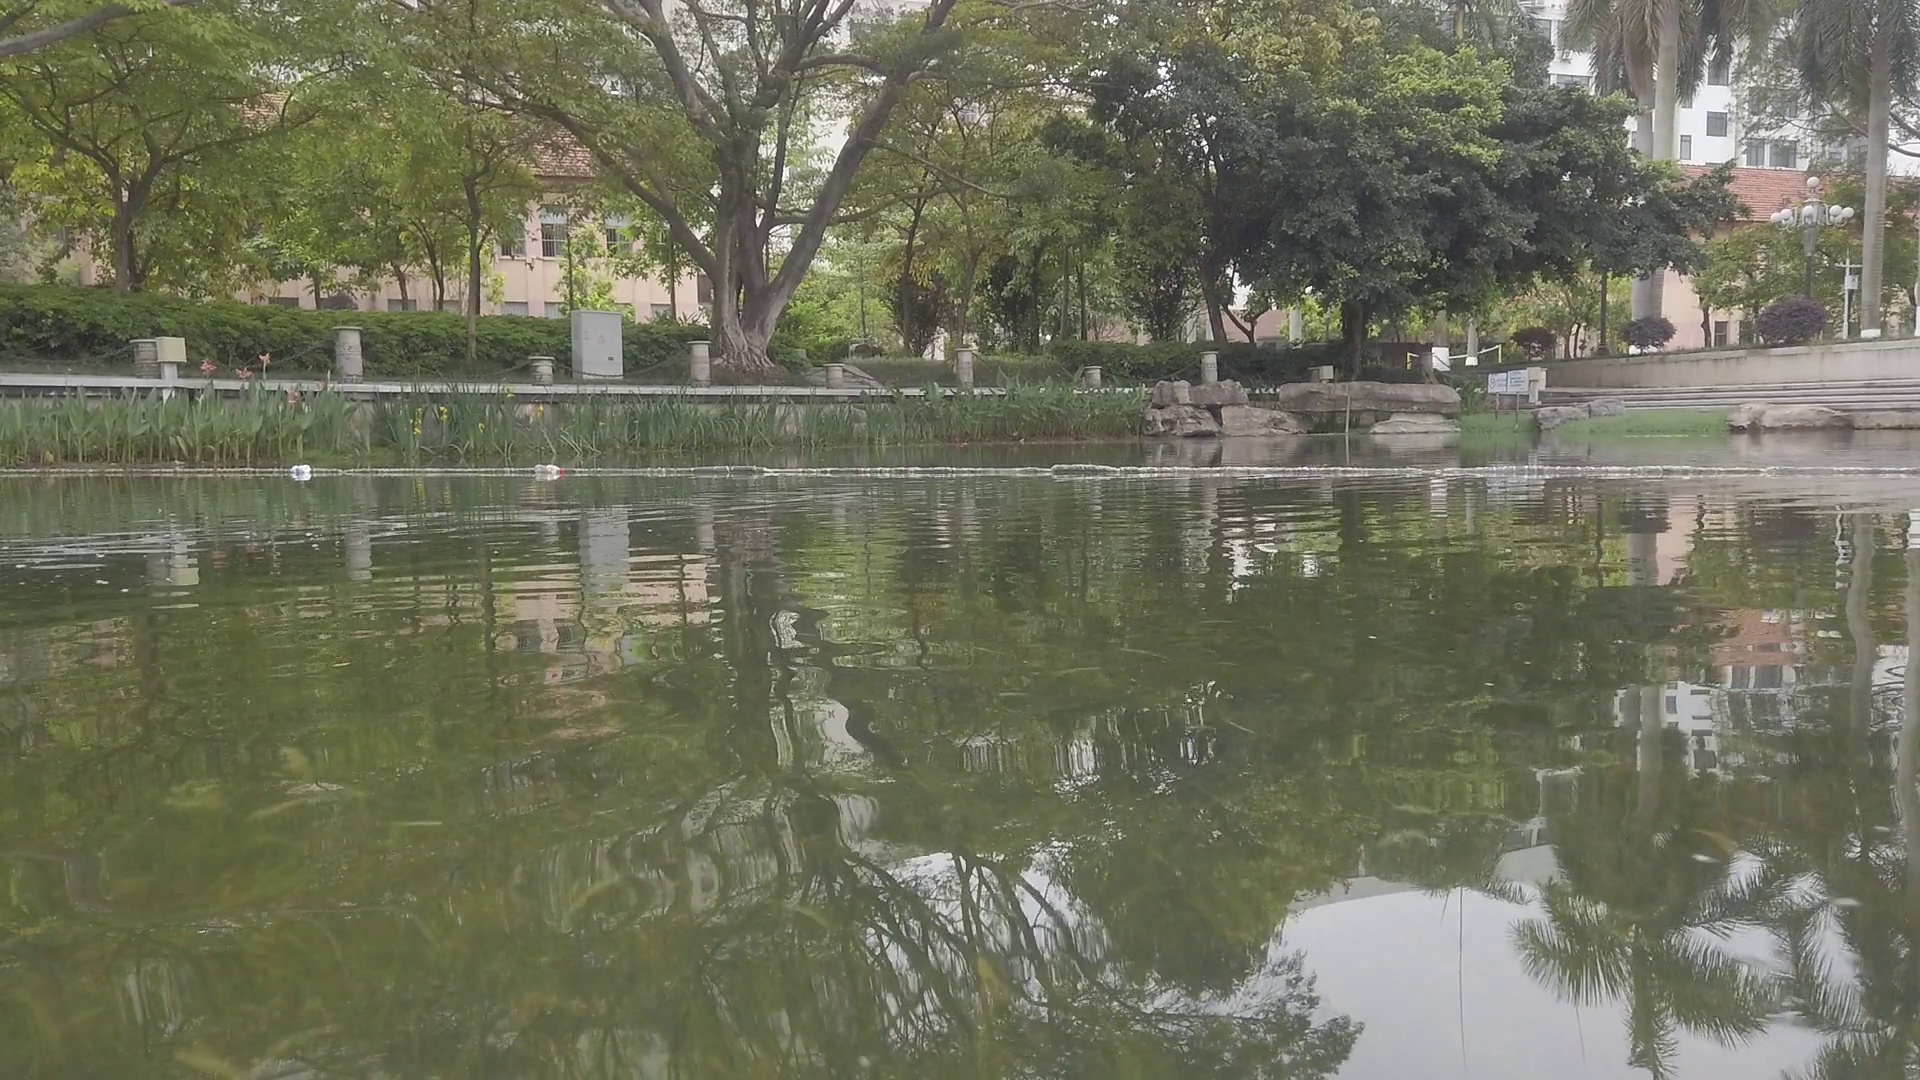bottle: (534, 463, 564, 473), (290, 463, 311, 475)
